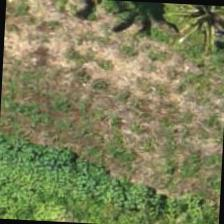Kelapa_Sawit: (158, 2, 223, 60)
